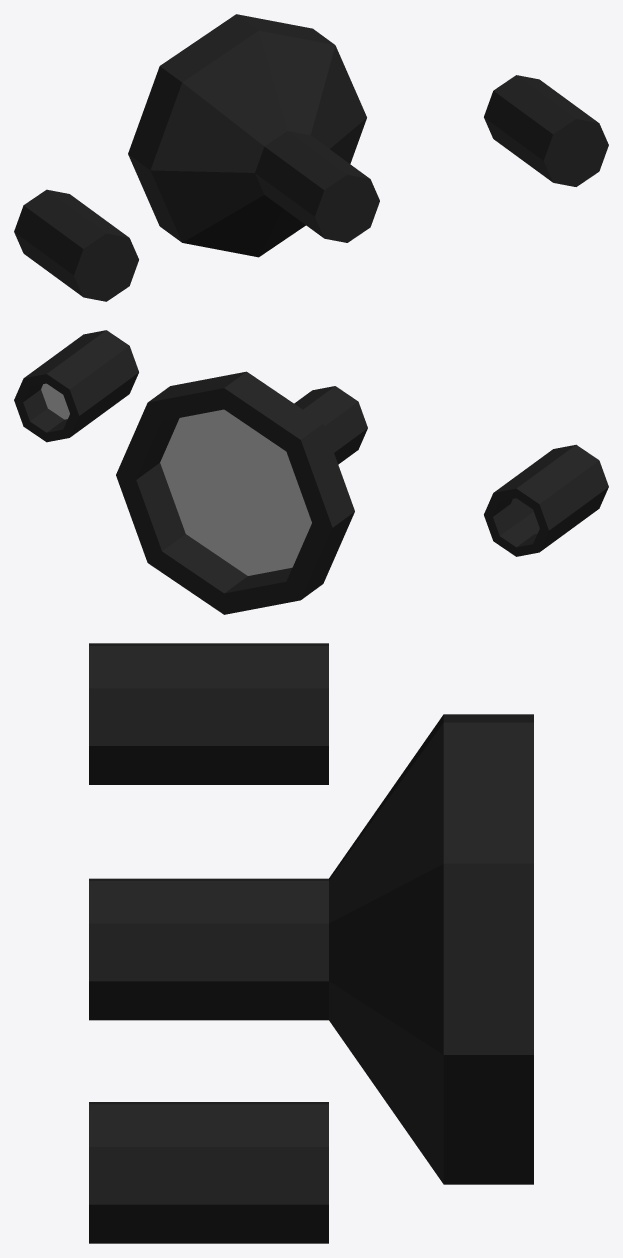
Rendered from exhaust3.glb.
3 views of the same model, one above another, from view 1: azimuth 30°, elevation 25°; view 2: azimuth 150°, elevation 25°; view 3: azimuth 270°, elevation 25° (orthographic). The views are drawn at different scales.
Visible parts, largest first — view 1: exhaust3; view 2: exhaust3; view 3: exhaust3.
Boxes of the visible parts, x1,y1,x2,y2 form: exhaust3: [14, 14, 608, 301]; exhaust3: [14, 330, 608, 614]; exhaust3: [89, 643, 533, 1243].
Bounding box in the file's own units: 1.78 × 0.7221 × 0.6418.
Materials: 1 (1 with a texture image).
